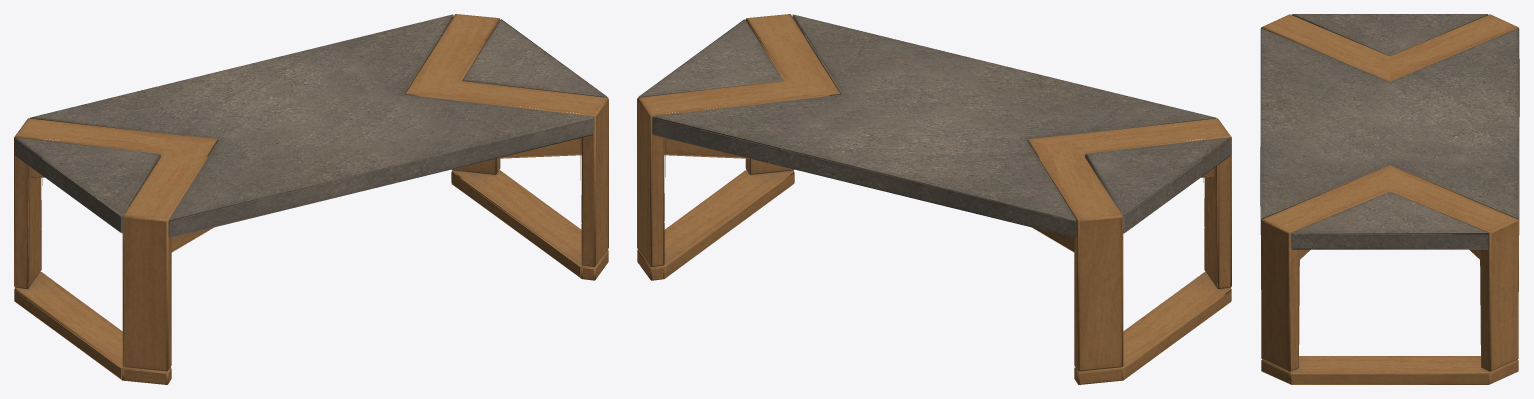
The picture shows the model from 3 angles, left to right: view 1: azimuth 30°, elevation 25°; view 2: azimuth 150°, elevation 25°; view 3: azimuth 270°, elevation 25°; orthographic projection. The views are drawn at different scales.
Parts seen in each view (by area): view 1: modern_coffee_table_01.001; view 2: modern_coffee_table_01.001; view 3: modern_coffee_table_01.001.
Boxes of the visible parts, x1=… form: modern_coffee_table_01.001: x1=14, y1=14, x2=608, y2=384; modern_coffee_table_01.001: x1=637, y1=14, x2=1231, y2=384; modern_coffee_table_01.001: x1=1260, y1=14, x2=1519, y2=384.
Bounding box in the file's own units: 1.2 × 0.3906 × 0.6002.
1 material, 1 textured.
